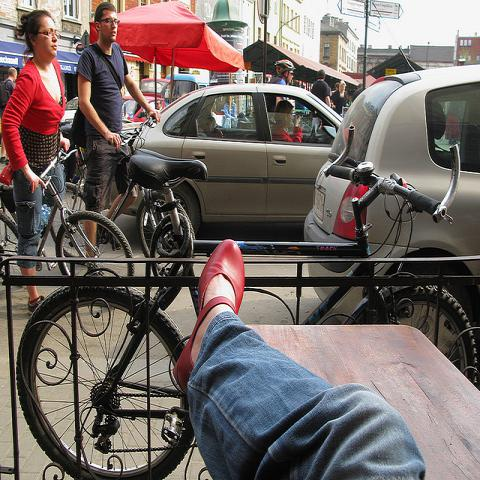car: (305, 63, 480, 389), (128, 81, 345, 235), (123, 94, 168, 129), (60, 97, 79, 127), (142, 78, 170, 96)
